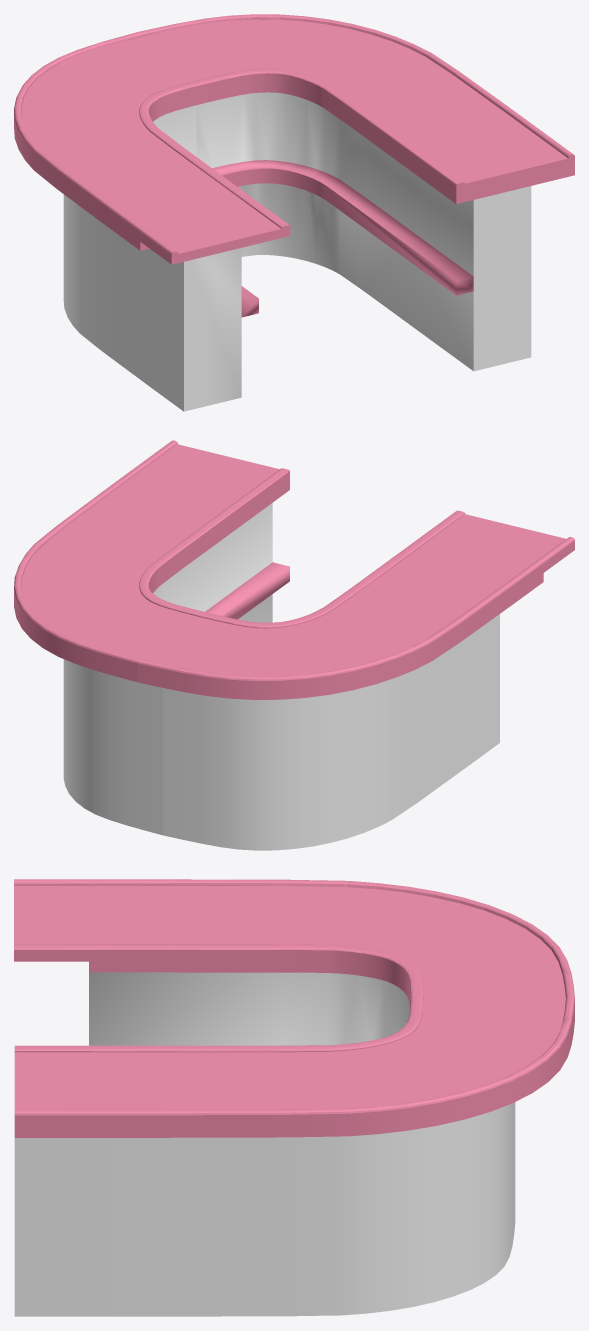
3 views of the same model, one above another, from view 1: azimuth 30°, elevation 25°; view 2: azimuth 150°, elevation 25°; view 3: azimuth 270°, elevation 25° (orthographic). The views are drawn at different scales.
Parts seen in each view (by area): view 1: RoundBar.007; view 2: RoundBar.007; view 3: RoundBar.007.
Boxes of the visible parts, bbox=[...] form: RoundBar.007: bbox=[14, 14, 574, 411]; RoundBar.007: bbox=[14, 440, 574, 850]; RoundBar.007: bbox=[14, 879, 574, 1316].
Size of what is drawn, in the model's own units: 2.42 by 1.1 by 2.45.
Materials: 1 (1 with a texture image).
